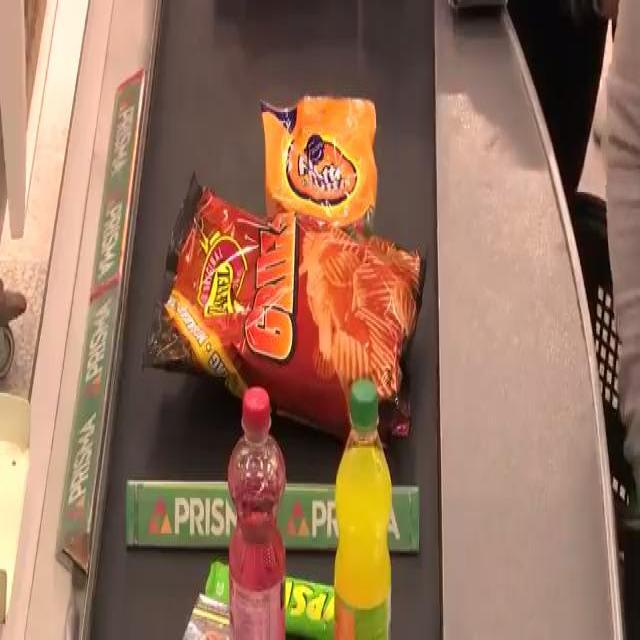beverage: (230, 377, 290, 640), (342, 373, 398, 640)
food-box: (166, 187, 410, 436)
fruit: (269, 88, 375, 241)
